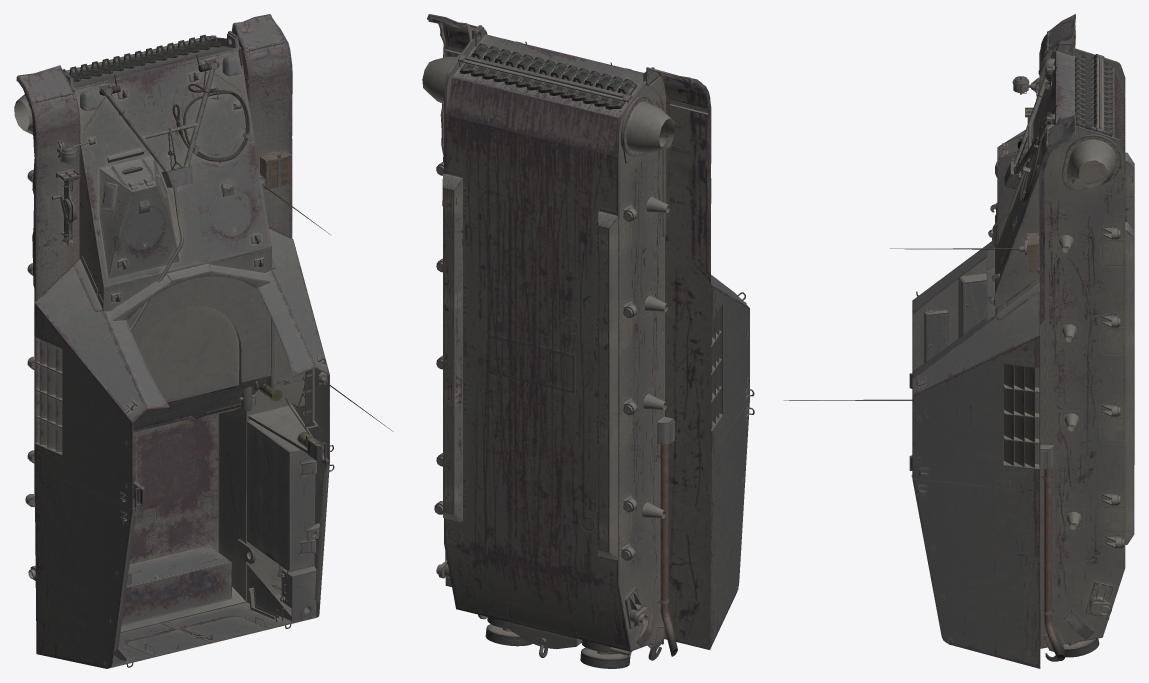
Rendered from Hull.glb.
3 views of the same model, side by side, from view 1: azimuth 30°, elevation 25°; view 2: azimuth 150°, elevation 25°; view 3: azimuth 270°, elevation 25° (orthographic). The views are drawn at different scales.
Visible parts, largest first — view 1: set_0_group_0; view 2: set_0_group_0; view 3: set_0_group_0.
Boxes of the visible parts, box(x1,y1,x2,y2) form: set_0_group_0: box(14, 14, 393, 668); set_0_group_0: box(422, 14, 754, 668); set_0_group_0: box(783, 14, 1134, 668).
Size of the model in its own units: 2.94 by 6.38 by 3.64.
Materials: 1 (1 with a texture image).
